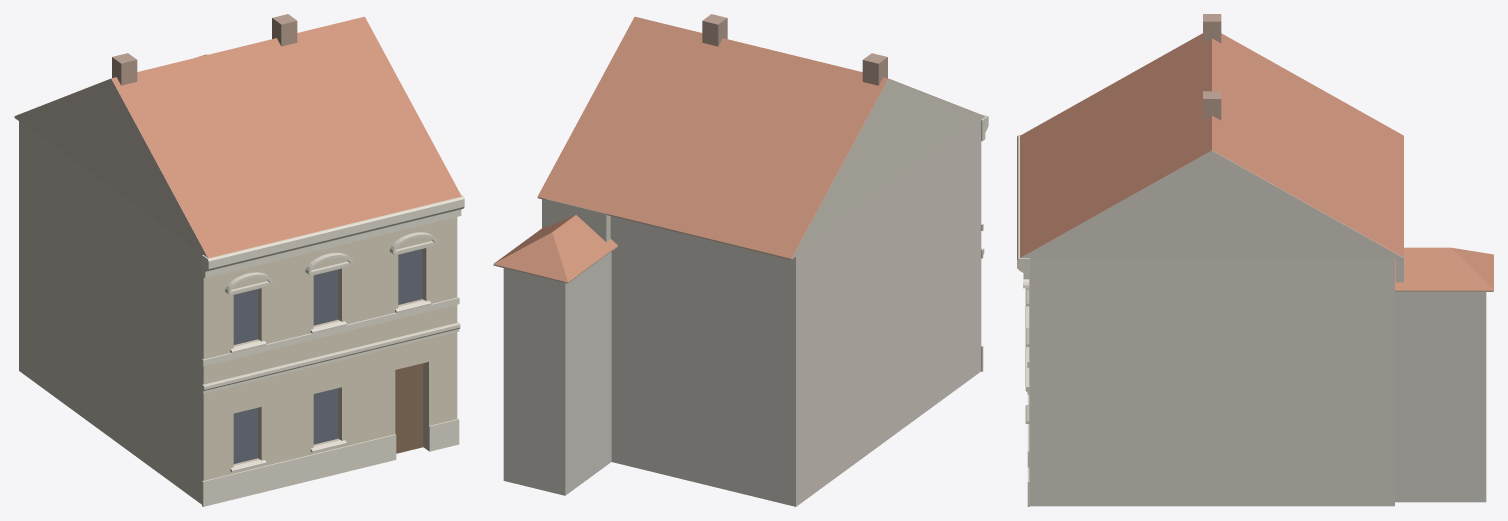
3 renders of one model, left to right at view 1: azimuth 30°, elevation 25°; view 2: azimuth 150°, elevation 25°; view 3: azimuth 270°, elevation 25°, orthographic.
Parts seen in each view (by area): view 1: CP_812_Masonry, CP_812_Roof, CP_812_Gable_L_gable, CP_812_Cornice_main_0, CP_812_Cornice_plinth_0, CP_812_Cornice_string_0, CP_812_Cornice_sillband_0, CP_812_Cornice_plinth_1, CP_812_Chimney_1, CP_812_Chimney_0; view 2: CP_812_Masonry, CP_812_Roof, CP_812_Rear_Annex, CP_812_Gable_L_gable, CP_812_WingRoof_Rear_Annex, CP_812_AtticClosure_1, CP_812_Chimney_0, CP_812_Chimney_1; view 3: CP_812_Masonry, CP_812_Roof, CP_812_Gable_R_gable, CP_812_Rear_Annex, CP_812_WingRoof_Rear_Annex, CP_812_Cornice_main_0.
Part boxes in pixels (x1,y1,x2,y2): CP_812_Masonry: (19, 120, 457, 504); CP_812_Roof: (15, 16, 461, 258); CP_812_Gable_L_gable: (14, 78, 207, 257); CP_812_Cornice_main_0: (202, 195, 464, 278); CP_812_Cornice_plinth_0: (202, 434, 396, 506); CP_812_Cornice_string_0: (202, 322, 460, 393); CP_812_Cornice_sillband_0: (202, 297, 459, 366); CP_812_Cornice_plinth_1: (429, 418, 459, 451); CP_812_Chimney_1: (272, 14, 297, 46); CP_812_Chimney_0: (112, 53, 137, 85); CP_812_Masonry: (542, 120, 981, 506); CP_812_Roof: (537, 16, 983, 258); CP_812_Rear_Annex: (503, 252, 611, 495); CP_812_Gable_L_gable: (783, 79, 985, 259); CP_812_WingRoof_Rear_Annex: (493, 215, 617, 282); CP_812_AtticClosure_1: (546, 199, 610, 242); CP_812_Chimney_0: (862, 53, 887, 85); CP_812_Chimney_1: (702, 14, 727, 46); CP_812_Masonry: (1029, 258, 1394, 506); CP_812_Roof: (1020, 33, 1403, 257); CP_812_Gable_R_gable: (1021, 150, 1403, 258); CP_812_Rear_Annex: (1395, 292, 1486, 502); CP_812_WingRoof_Rear_Annex: (1395, 247, 1493, 290); CP_812_Cornice_main_0: (1017, 135, 1029, 279).
Bounding box in the file's own units: 9.6 × 13.49 × 15.65.
